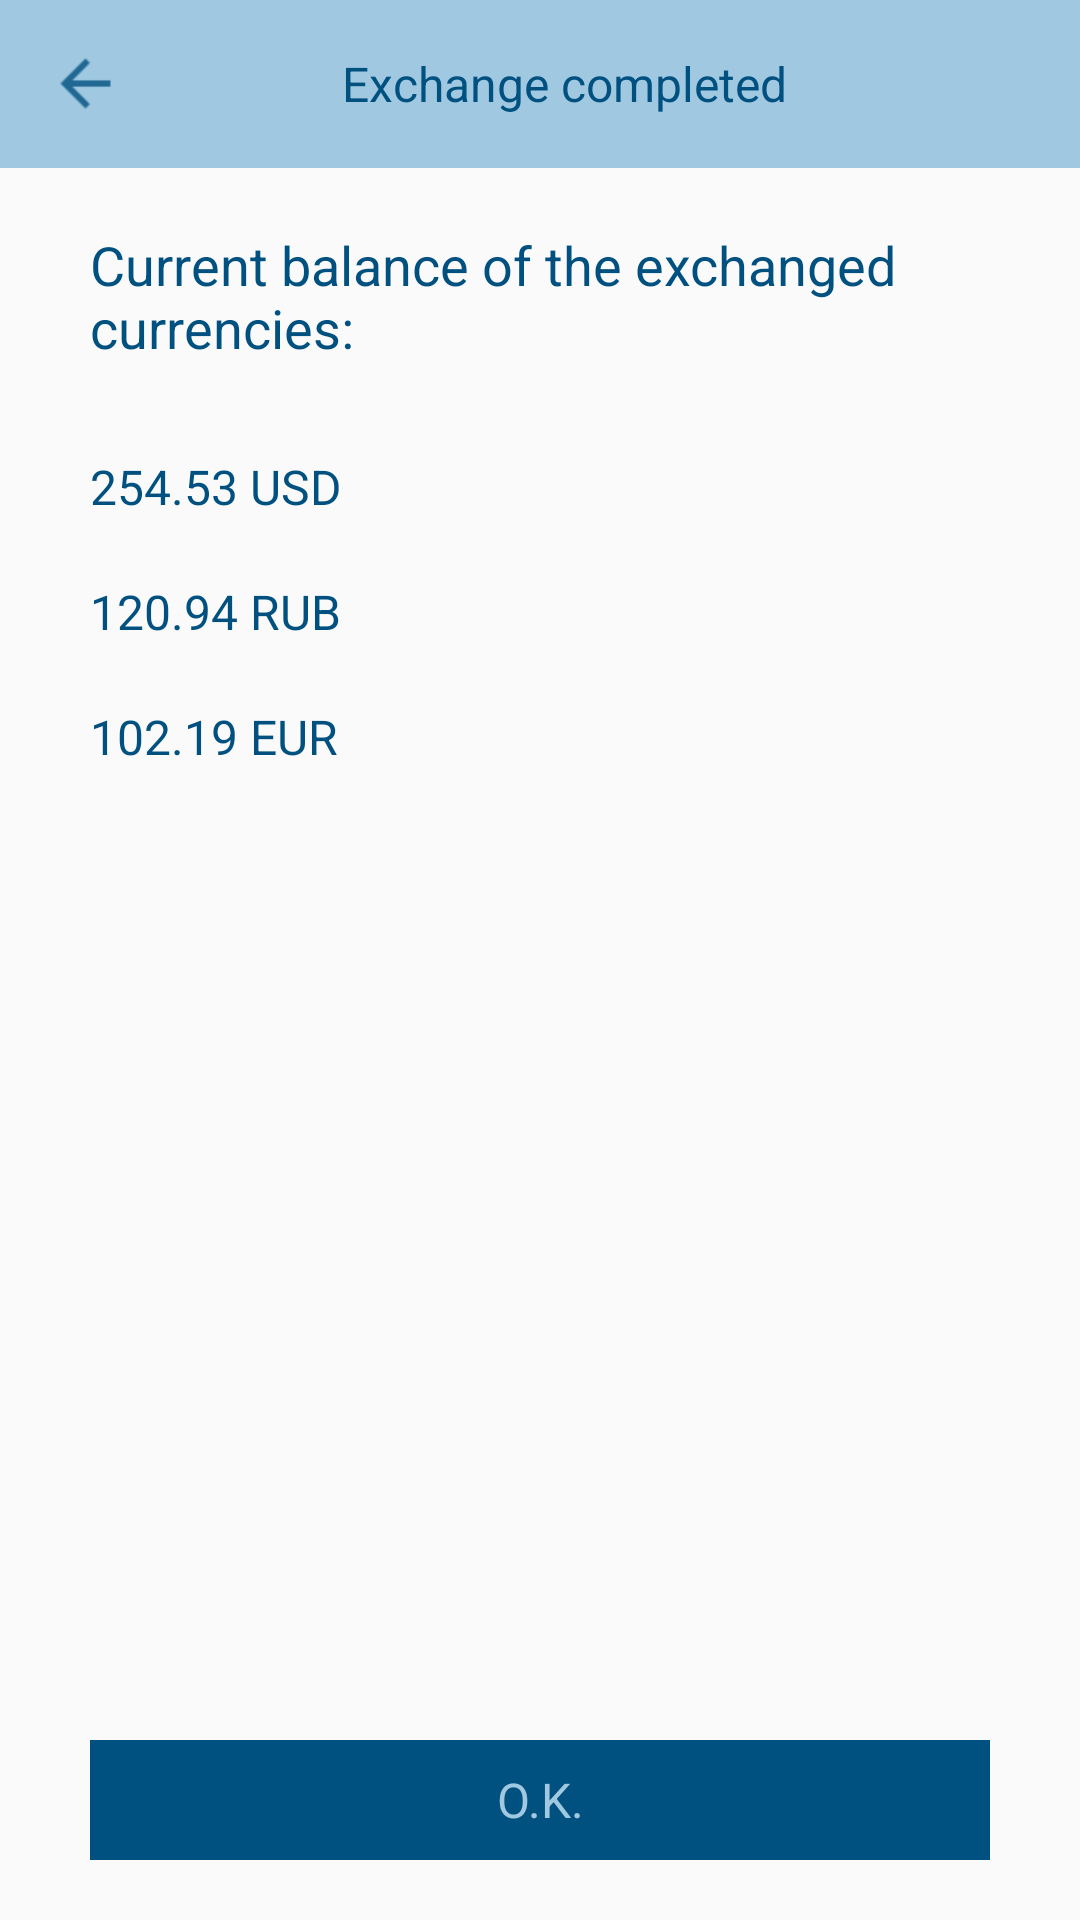

Named icons in this screenshot (1080 × 1920) and their centers, [x,y]:
arrow back: [85,83]
